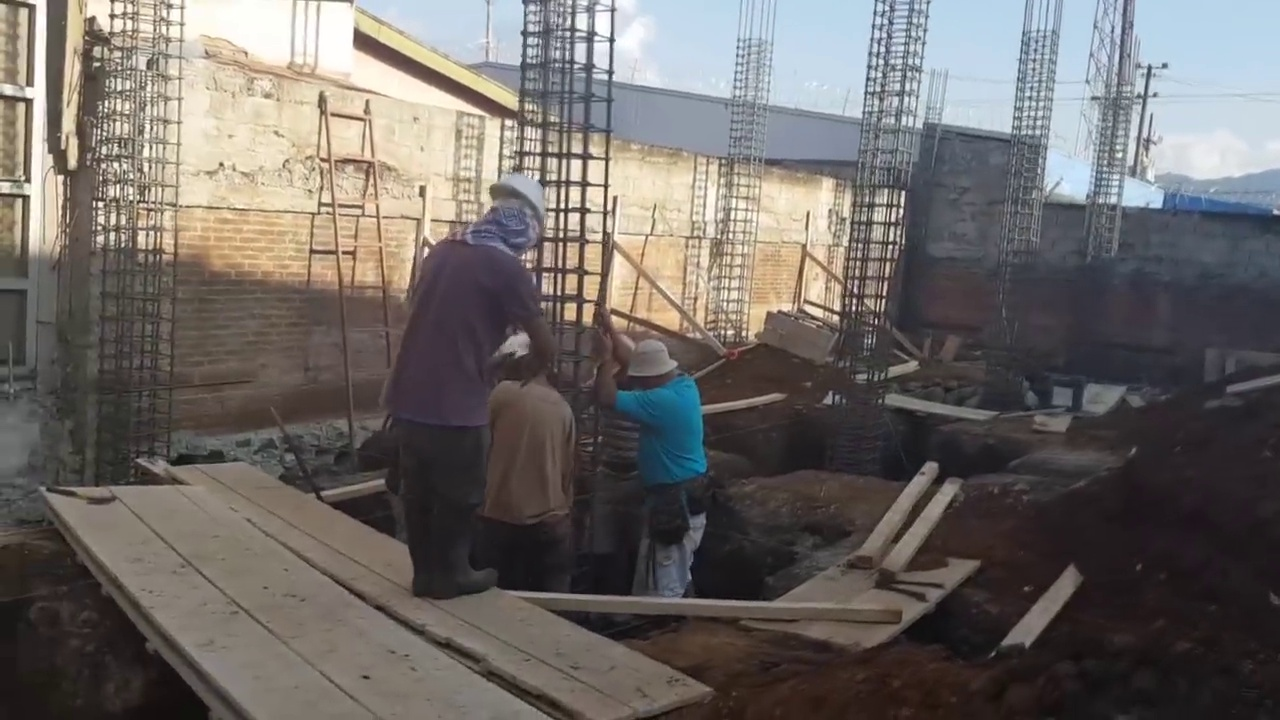helmet: (489, 175, 547, 220)
helmet-off: (624, 339, 681, 391)
helmet-on: (475, 175, 547, 253)
person: (365, 175, 559, 600), (601, 305, 713, 630), (478, 329, 579, 595)
